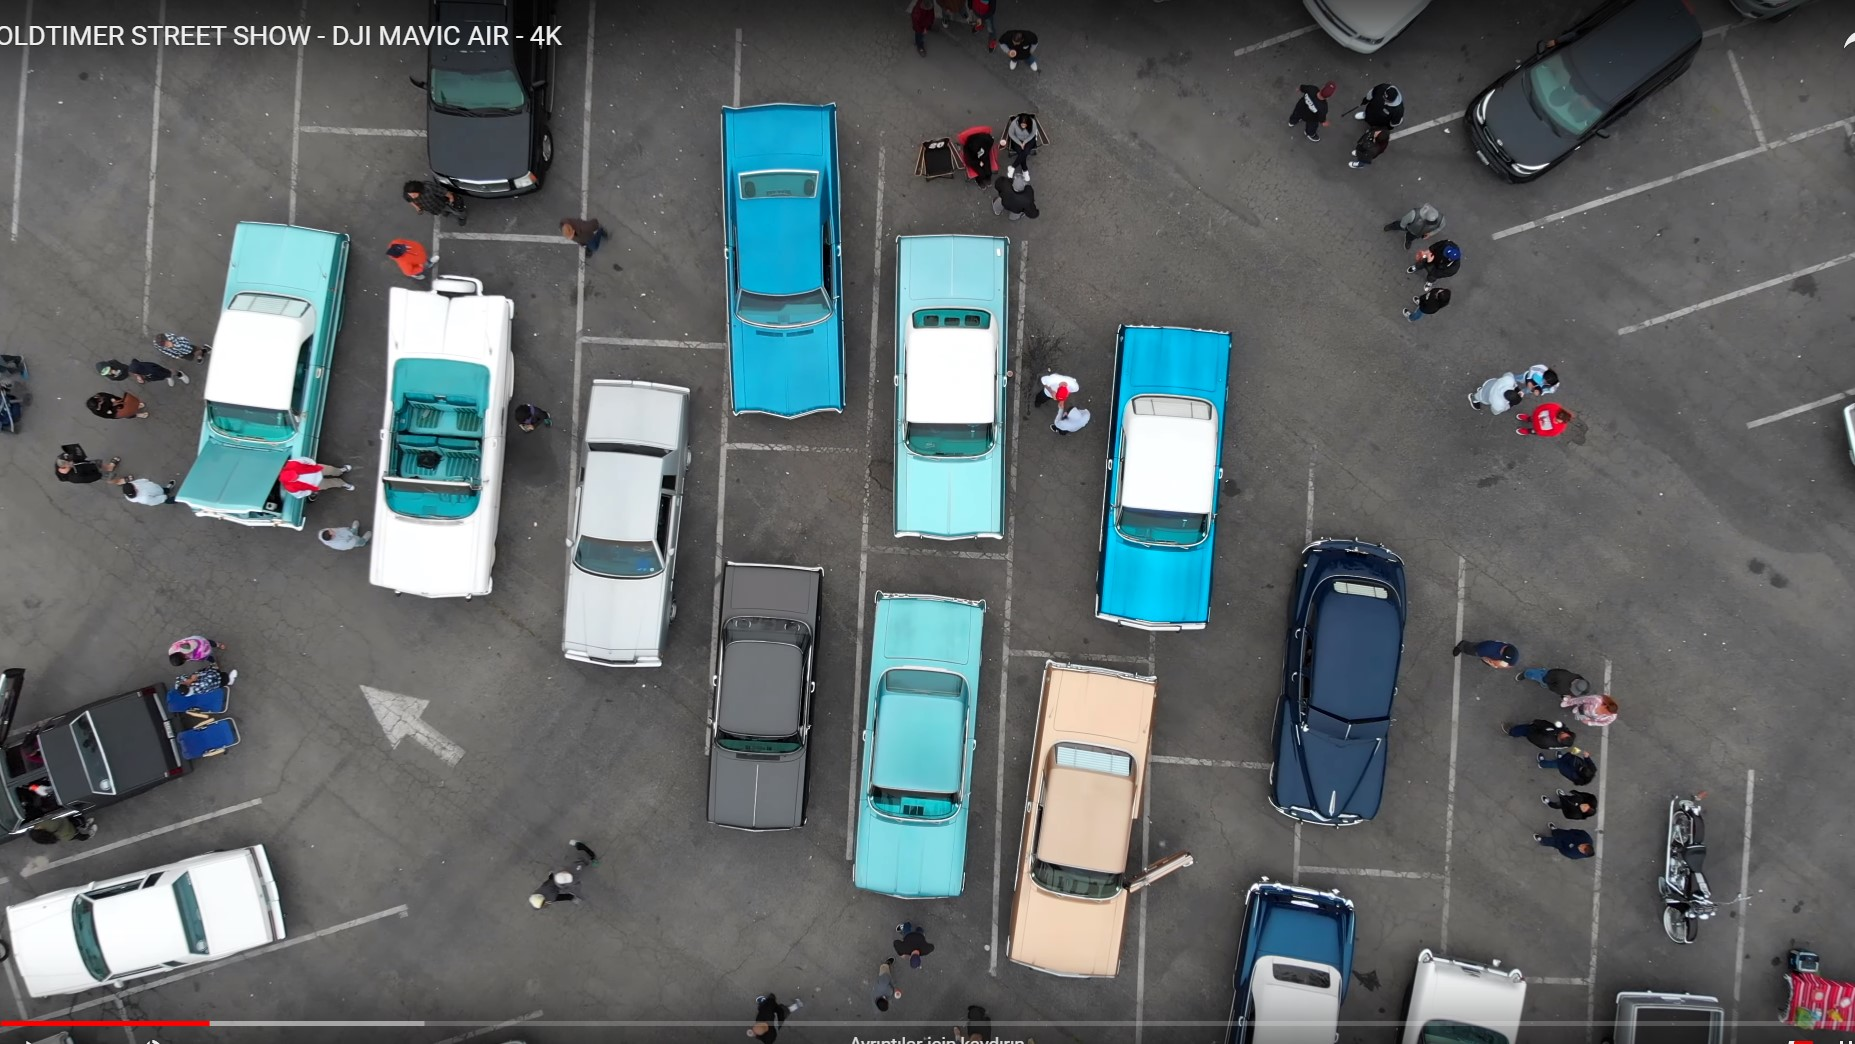araba: (1000, 649, 1158, 985), (178, 215, 351, 521), (1, 838, 293, 1013), (1454, 1, 1704, 189), (373, 287, 519, 606), (712, 100, 850, 422), (1093, 311, 1233, 625), (1265, 527, 1408, 829), (842, 589, 979, 900), (561, 377, 693, 676), (708, 560, 824, 831), (421, 1, 562, 202), (1, 684, 190, 833), (1224, 879, 1351, 1044), (1396, 943, 1528, 1044)
insan: (389, 177, 478, 225), (50, 442, 127, 489), (733, 991, 798, 1044), (992, 27, 1048, 87), (111, 471, 181, 516), (274, 456, 363, 492), (1525, 821, 1601, 860), (1532, 742, 1605, 783), (377, 238, 444, 283), (1286, 81, 1333, 139), (1508, 712, 1590, 746), (1515, 400, 1574, 446), (82, 389, 155, 425), (1408, 238, 1469, 281), (1455, 630, 1520, 669), (551, 210, 617, 248), (129, 353, 193, 391), (148, 331, 213, 369), (1390, 287, 1456, 323), (1532, 784, 1608, 815), (1005, 107, 1048, 161), (998, 160, 1036, 218), (159, 633, 228, 665), (1039, 396, 1097, 435), (961, 130, 1002, 184), (1035, 365, 1088, 406), (1388, 200, 1443, 238), (1542, 658, 1592, 700), (1571, 691, 1625, 730), (552, 837, 594, 885), (1469, 373, 1520, 412), (1362, 84, 1408, 126), (519, 877, 574, 911), (1348, 129, 1385, 179), (1516, 361, 1562, 400), (859, 979, 912, 1012), (893, 922, 932, 966), (96, 357, 144, 388), (952, 1007, 984, 1044)
